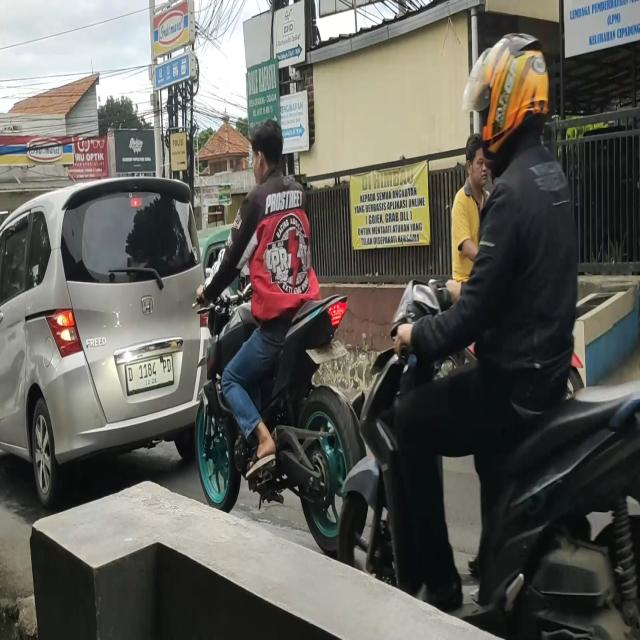helmet: (478, 36, 549, 153)
no-helmet: (254, 121, 282, 183), (466, 136, 491, 185)
